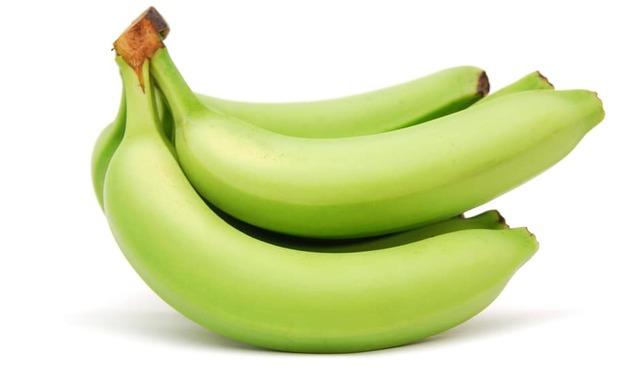banana: (73, 4, 609, 357)
